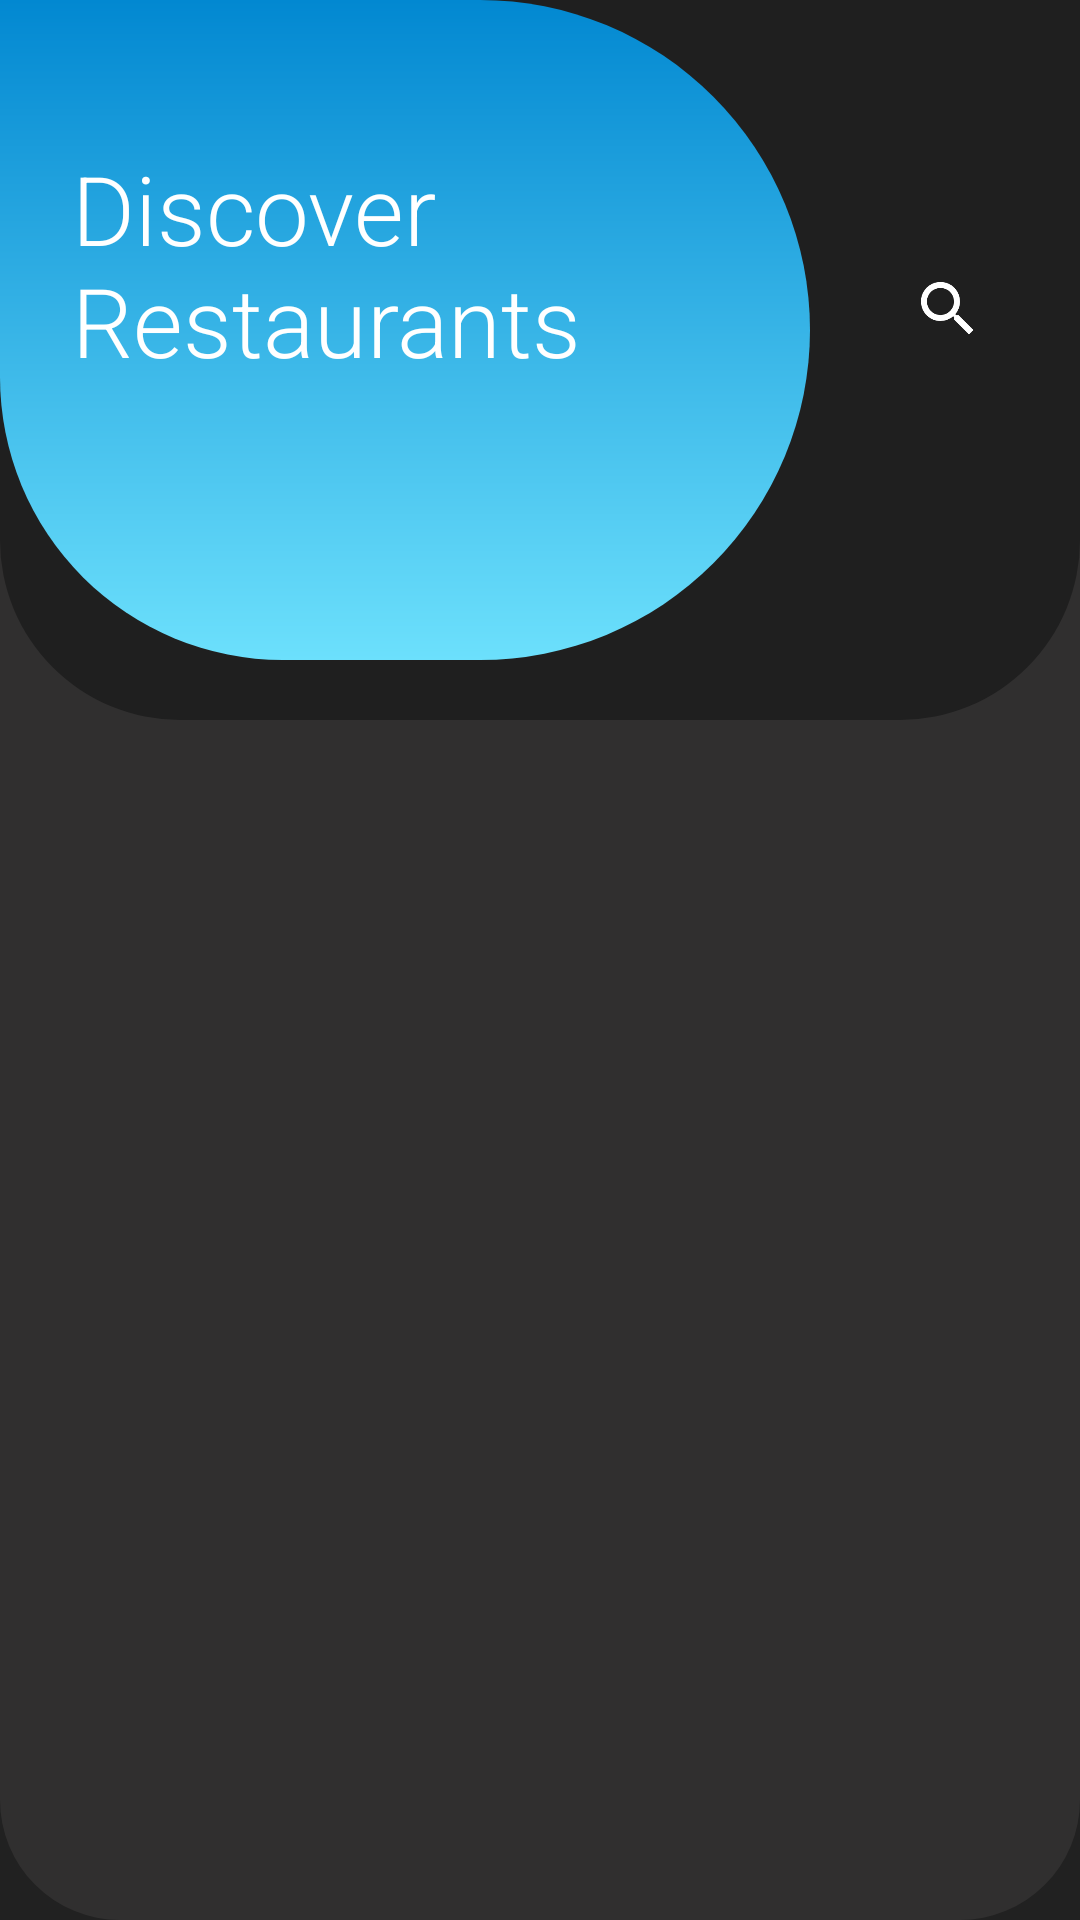

Point at icon controls on the screen. Image size 1080px×1920px, points as [x,y].
search: [947,308]
